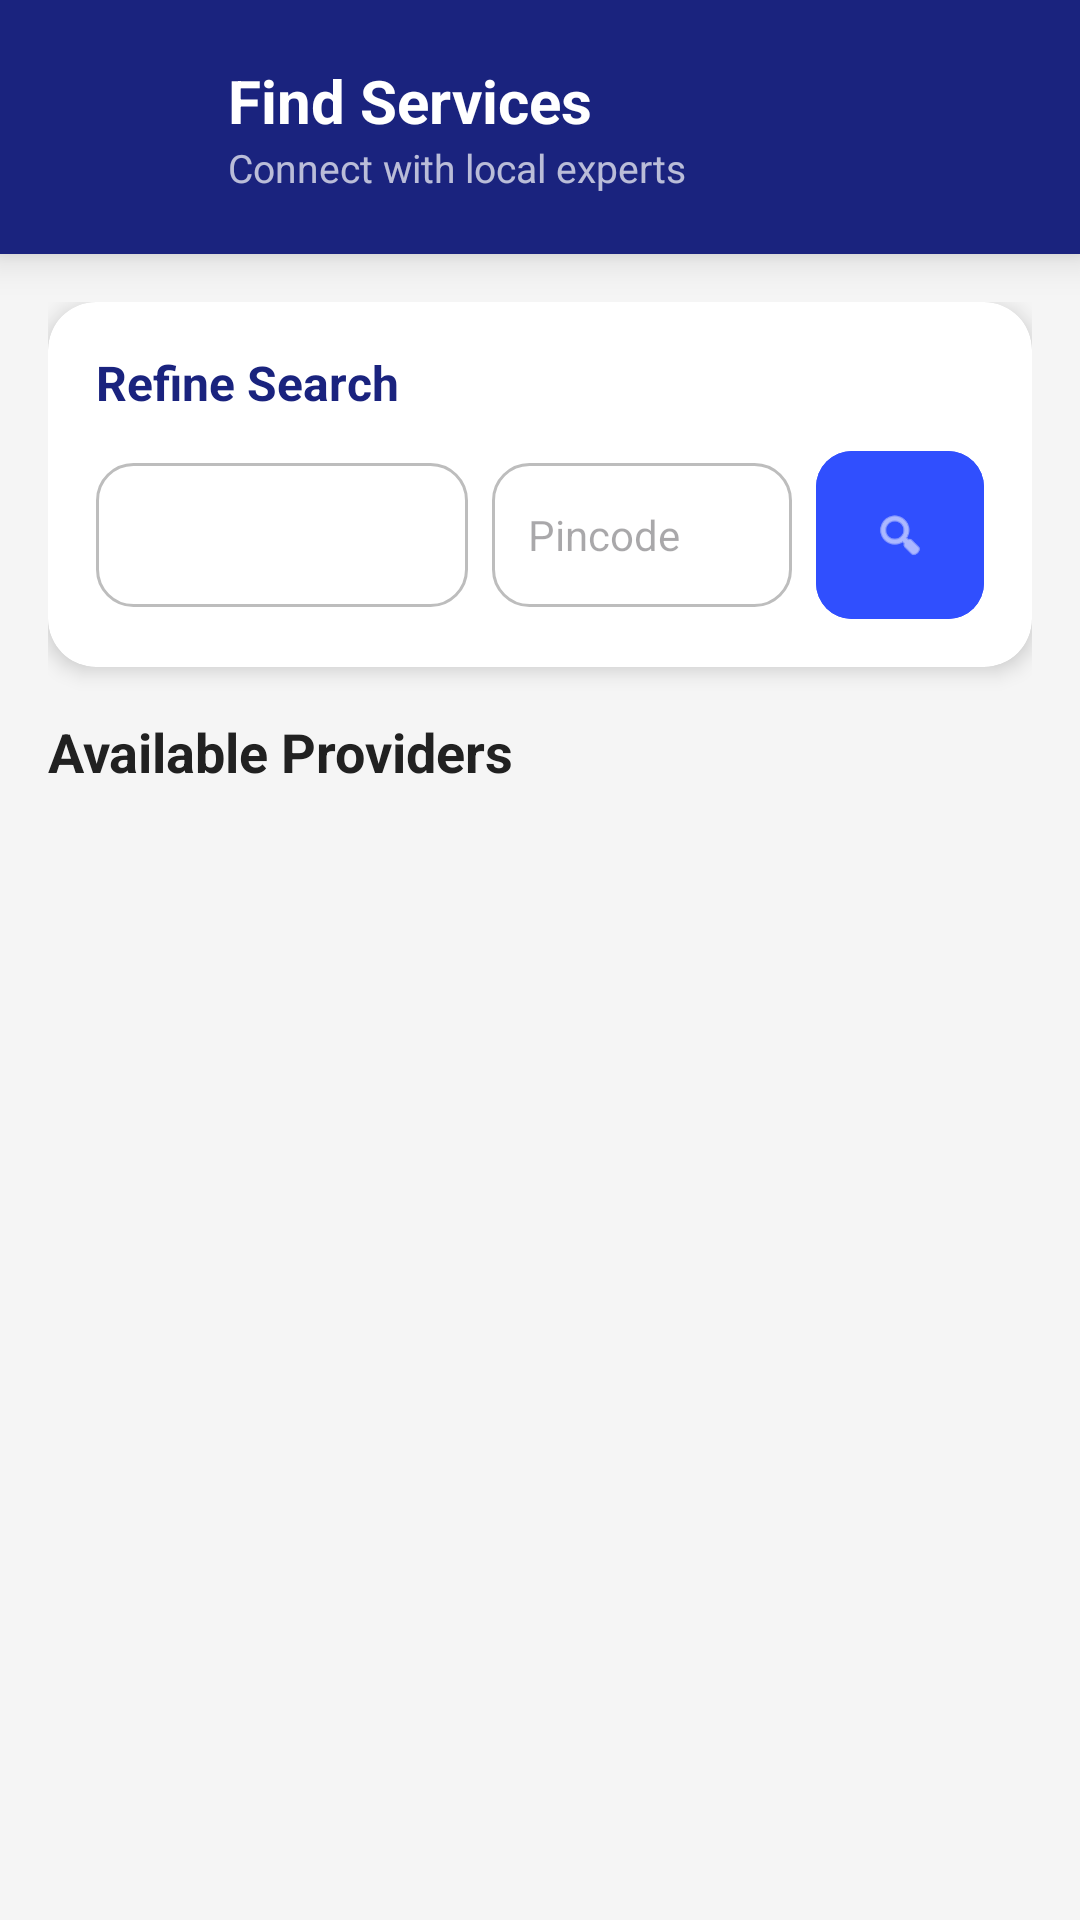

Named icons in this screenshot (1080w x 1920h) and their centers, (x=x, y=y):
search: (x=900, y=535)
